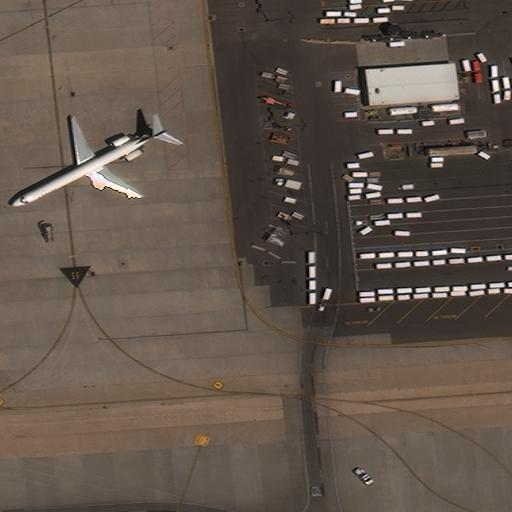Medium Civil Transport: (12, 120, 168, 205)
